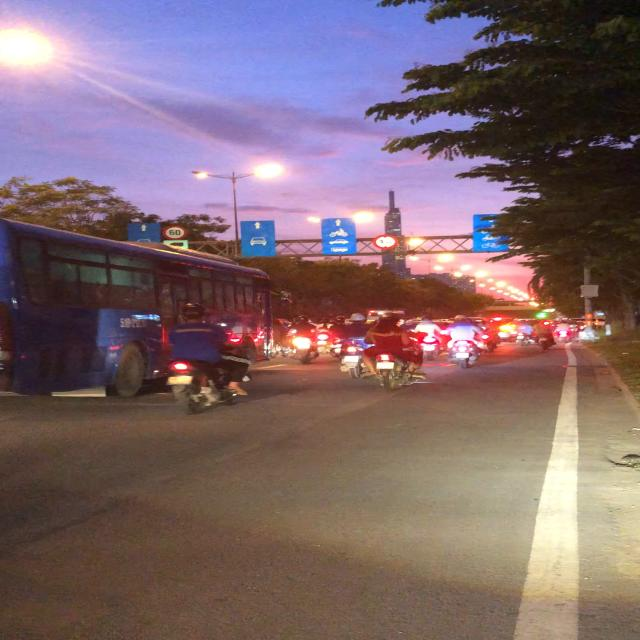Bien bao han che chieu cao: (370, 233, 402, 251)
Bien bao toc do toi da cho phep: (161, 222, 189, 240)
